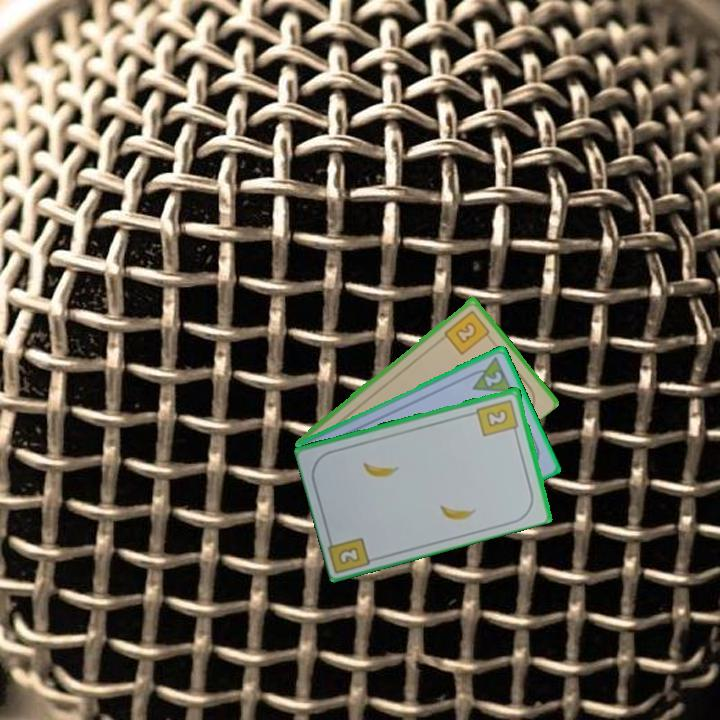2b: (441, 306, 495, 357), (473, 395, 521, 439), (335, 543, 363, 567)
2p: (464, 353, 516, 395)
